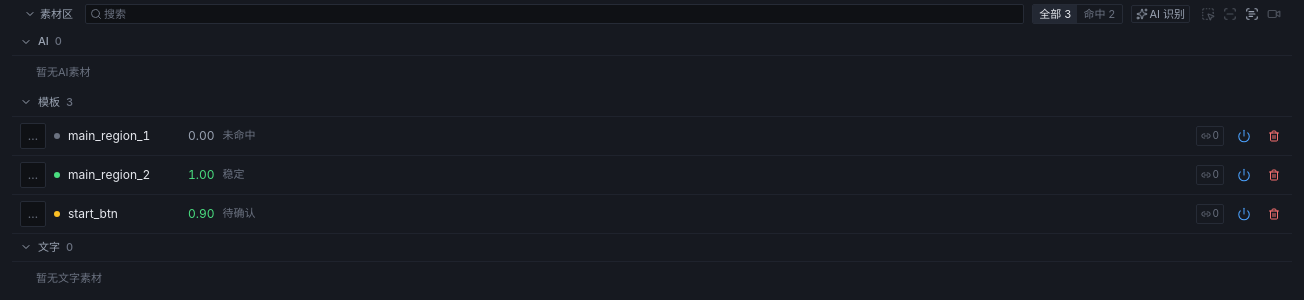
Test: 素材区：全部 / 命中 › 请求期间禁止重复切换，失败后保留原状态并恢复按钮
Click the switch named "main_region_1 参与识别": (1244, 136) 1232,124 -> 1256,148
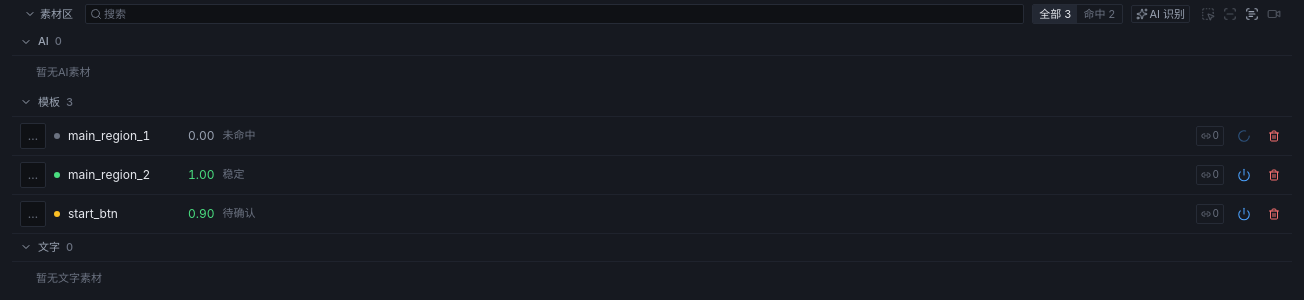
Check: the switch named "main_region_1 参与识别" is disabled
Click the switch named "main_region_1 参与识别": (1244, 136) 1232,124 -> 1256,148
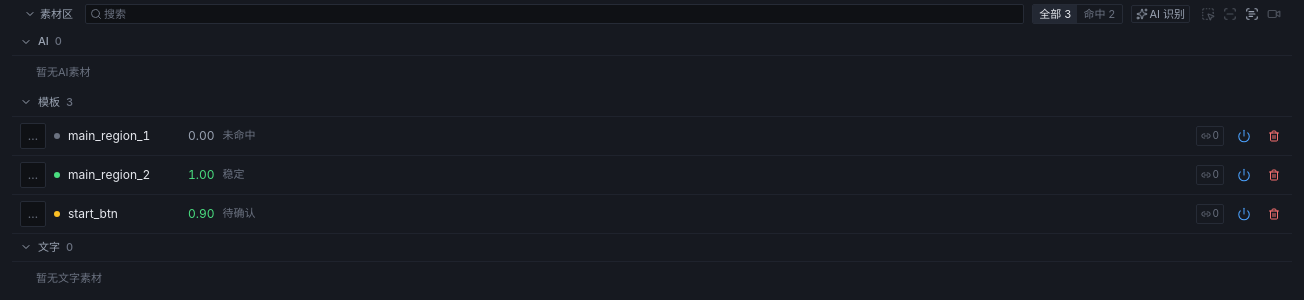
Check: the switch named "main_region_1 参与识别" is enabled, box 1232,124 -> 1256,148
